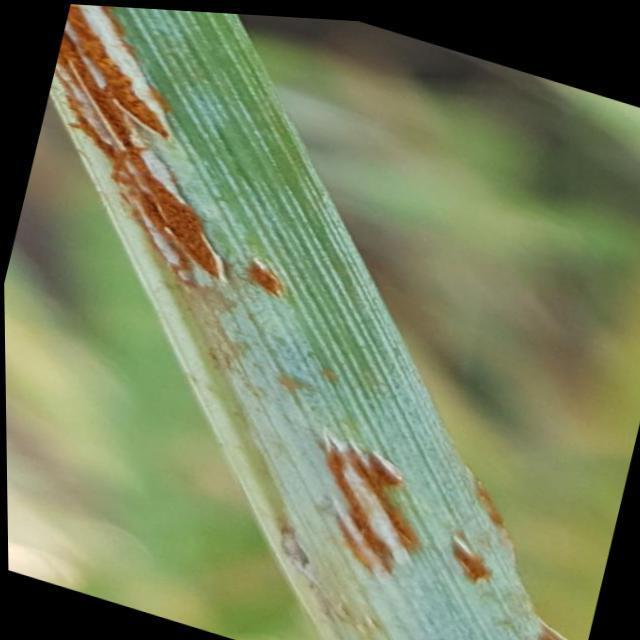Stem_Rust: (46, 2, 571, 639)
